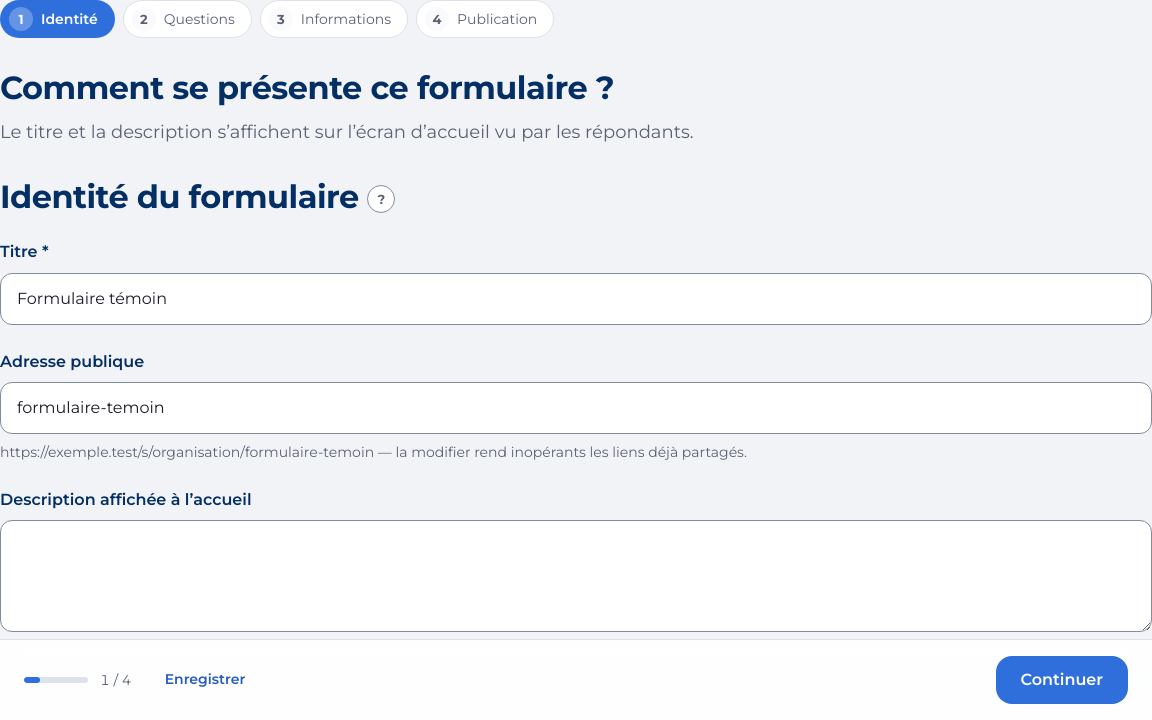
Test case: manipulation au clavier › empêche de publier un formulaire incomplet, et dit ce qui manque
The width and height of the screenshot is (1152, 720).
Click the button "4 Publication": (485, 19) left=416, top=0, right=554, bottom=38
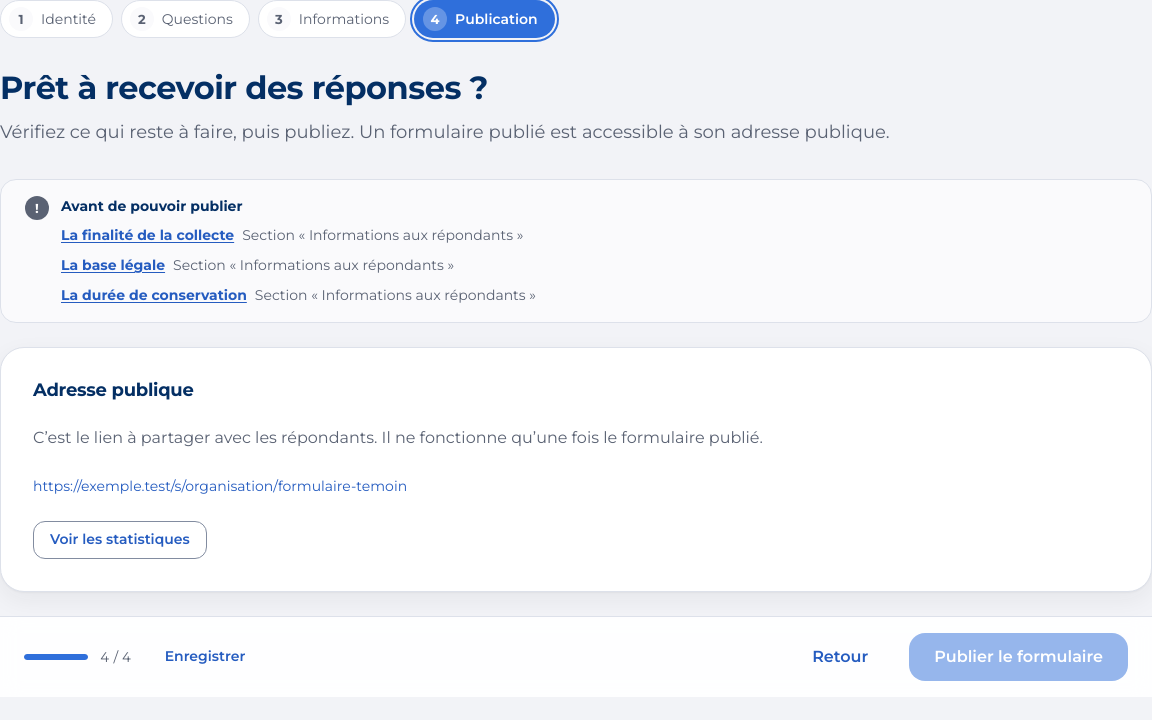
Now the button "Publier le formulaire" is disabled, box left=909, top=633, right=1128, bottom=681
Now the text "Avant de pouvoir publier" is shown, box left=61, top=197, right=242, bottom=215
Now the button "La finalité de la collecte" is shown, box left=61, top=225, right=234, bottom=247
